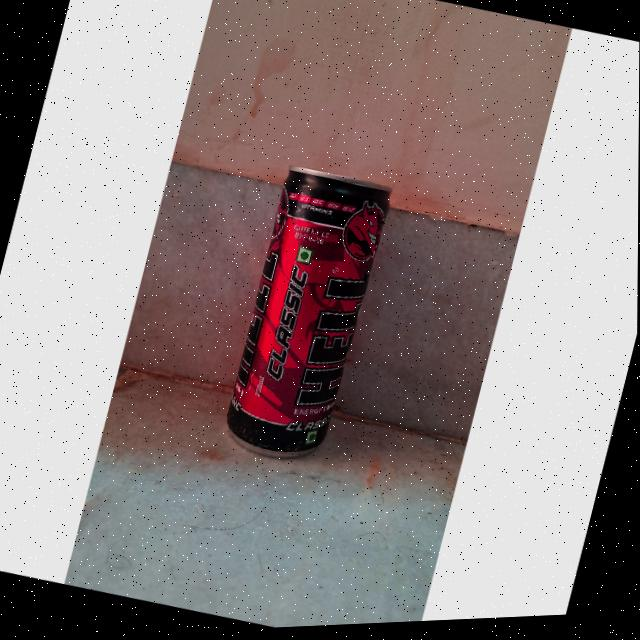Hell Classic: (207, 151, 418, 481)
